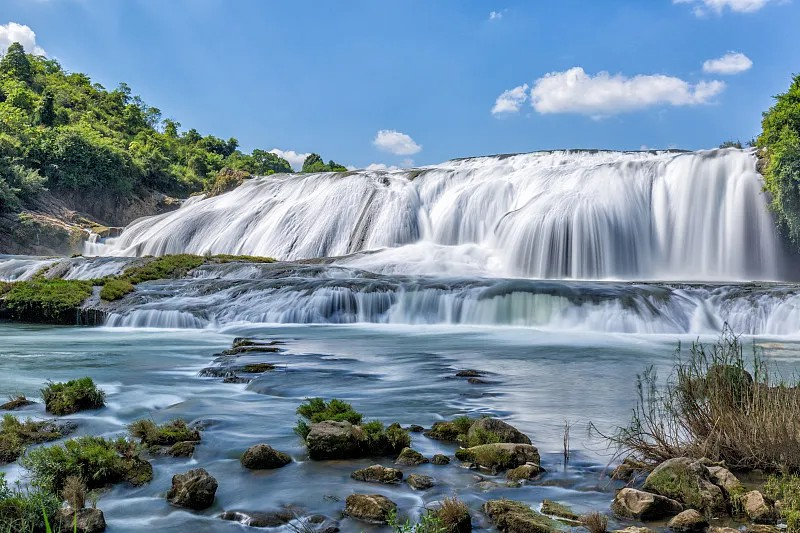Huangguoshu: (85, 149, 793, 336)
